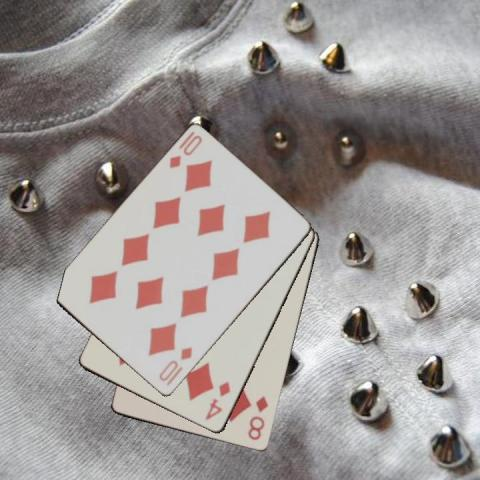10d: (156, 344, 194, 383), (166, 132, 204, 170)
4d: (203, 379, 232, 422)
8d: (245, 393, 270, 442)
